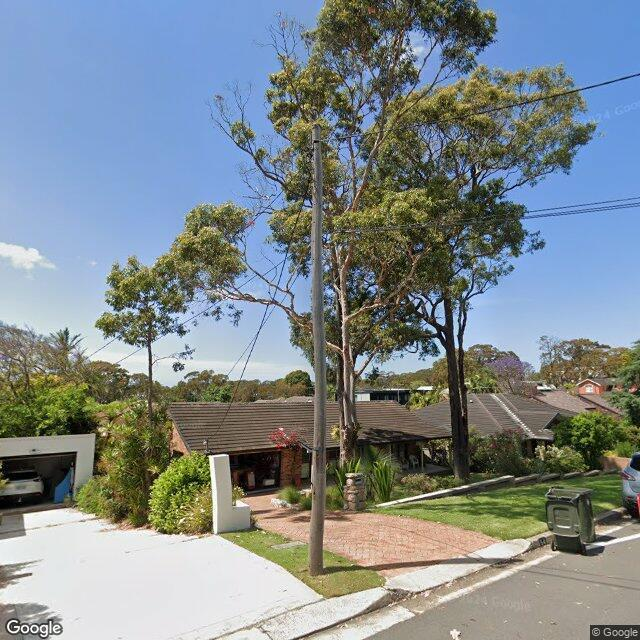timber-pole: (310, 124, 325, 576)
